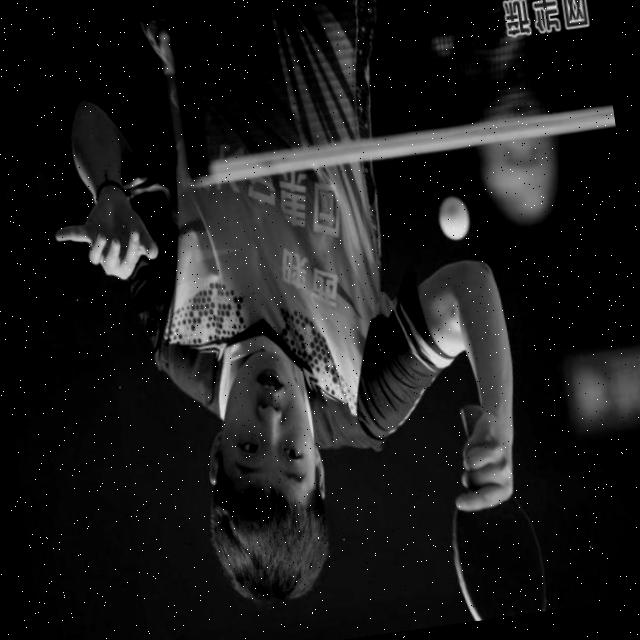ping-pong-ball: (432, 192, 476, 248)
